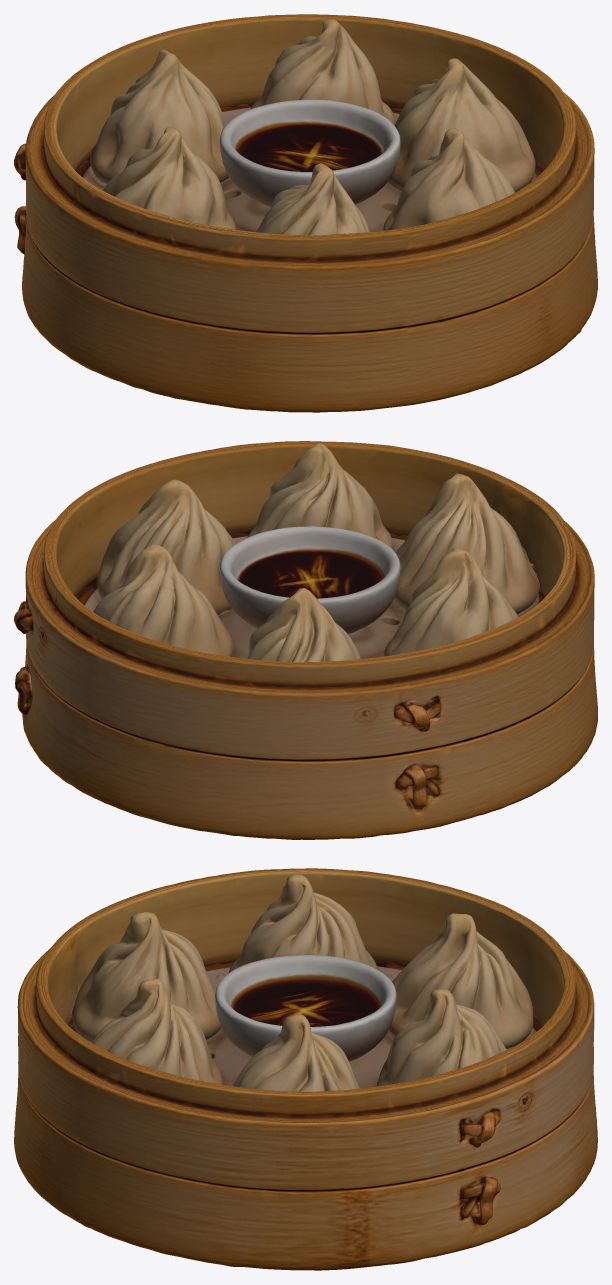
Rendered from xiao-long-bao-raw.glb.
The picture shows the model from 3 angles, top to bottom: view 1: azimuth 30°, elevation 25°; view 2: azimuth 150°, elevation 25°; view 3: azimuth 270°, elevation 25°; orthographic projection.
Parts seen in each view (by area): view 1: tripo_node_286047e2-a337-4ab8-ba86-29b2a231f4e7; view 2: tripo_node_286047e2-a337-4ab8-ba86-29b2a231f4e7; view 3: tripo_node_286047e2-a337-4ab8-ba86-29b2a231f4e7.
Part boxes in pixels (box(x1,y1,x2,y2)): tripo_node_286047e2-a337-4ab8-ba86-29b2a231f4e7: box(14, 14, 597, 412); tripo_node_286047e2-a337-4ab8-ba86-29b2a231f4e7: box(14, 441, 597, 839); tripo_node_286047e2-a337-4ab8-ba86-29b2a231f4e7: box(14, 868, 597, 1270).
Size of the model in its own units: 1 by 0.3882 by 0.9992.
Materials: 1 (1 with a texture image).
